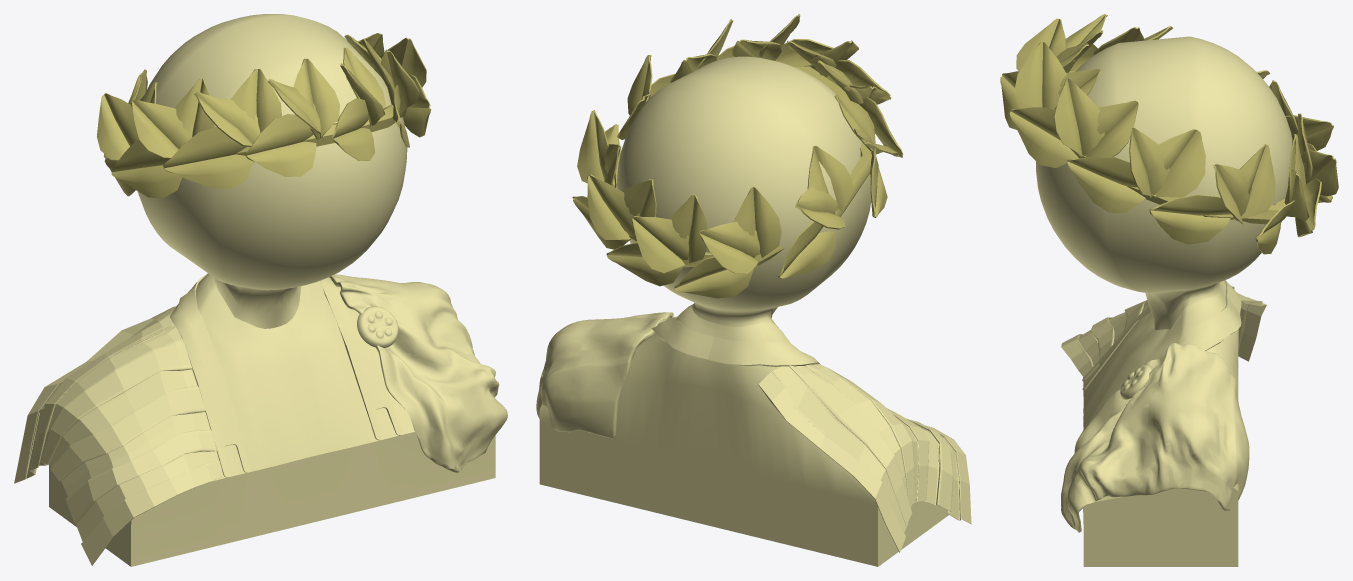
The model's file is napoylon.fbx.
3 views of the same model, side by side, from view 1: azimuth 30°, elevation 25°; view 2: azimuth 150°, elevation 25°; view 3: azimuth 270°, elevation 25° (orthographic). The views are drawn at different scales.
Parts seen in each view (by area): view 1: Stickman_heads_sphere.001, Circle, Plane, Stickman_heads_sphere.003, Stickman_heads_sphere.002, Circle.001; view 2: Stickman_heads_sphere.001, Circle, Plane, Stickman_heads_sphere.003, Stickman_heads_sphere.002; view 3: Stickman_heads_sphere.001, Circle, Stickman_heads_sphere.003, Plane, Stickman_heads_sphere.002, Circle.001.
Boxes of the visible parts, x1=… form: Stickman_heads_sphere.001: x1=49, y1=14, x2=495, y2=566; Circle: x1=97, y1=33, x2=431, y2=198; Plane: x1=14, y1=306, x2=222, y2=565; Stickman_heads_sphere.003: x1=329, y1=274, x2=507, y2=472; Stickman_heads_sphere.002: x1=169, y1=274, x2=402, y2=477; Circle.001: x1=357, y1=306, x2=398, y2=347; Stickman_heads_sphere.001: x1=539, y1=56, x2=953, y2=566; Circle: x1=572, y1=14, x2=903, y2=298; Plane: x1=758, y1=364, x2=971, y2=552; Stickman_heads_sphere.003: x1=536, y1=312, x2=673, y2=438; Stickman_heads_sphere.002: x1=651, y1=316, x2=820, y2=366; Stickman_heads_sphere.001: x1=1036, y1=36, x2=1292, y2=566; Circle: x1=1000, y1=14, x2=1338, y2=254; Stickman_heads_sphere.003: x1=1061, y1=343, x2=1249, y2=532; Plane: x1=1061, y1=286, x2=1266, y2=377; Stickman_heads_sphere.002: x1=1082, y1=280, x2=1241, y2=390; Circle.001: x1=1120, y1=365, x2=1151, y2=399.
Size of the model in its own units: 109 by 119 by 82.21.
